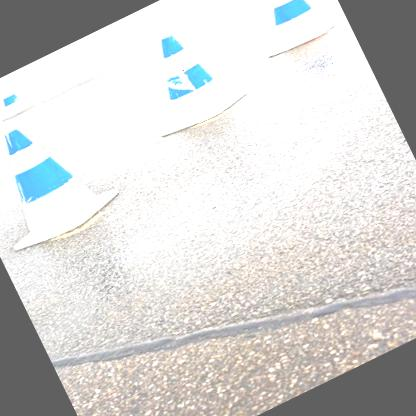cone: (0, 94, 131, 259), (123, 11, 253, 141), (239, 0, 346, 60), (0, 76, 35, 119)
